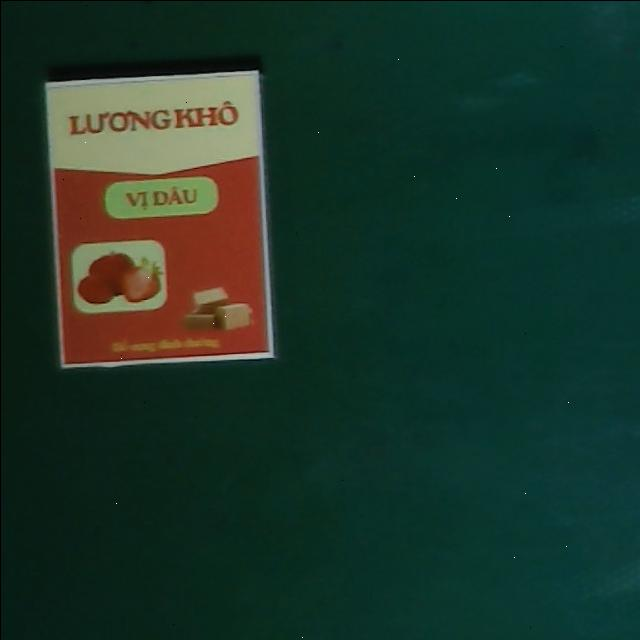dau: (46, 68, 273, 369)
